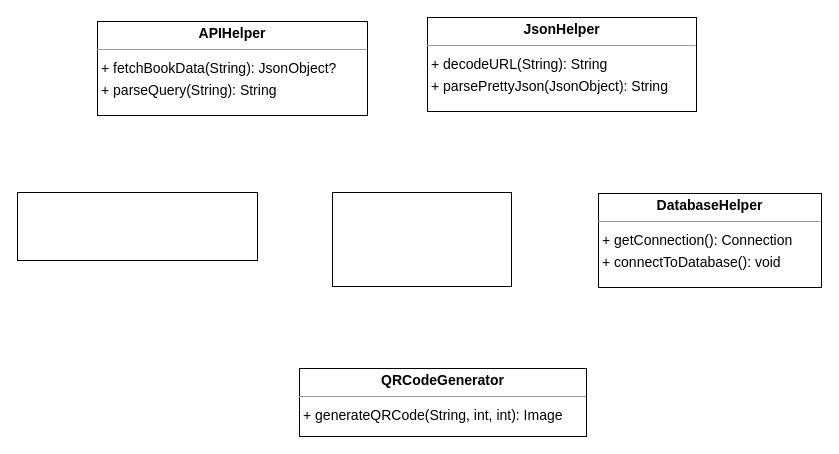
The diagram is 839 pixels wide and 454 high, and some of its shapes have lost their labels. The centre of each missing label's shape, as x and y in pixels:
"PasswordEncoder + hashedpassword(String): String" belongs at (137,226).
"TagBookCount + getTotalBooks(): int + getTagName(): String" belongs at (422,239).
